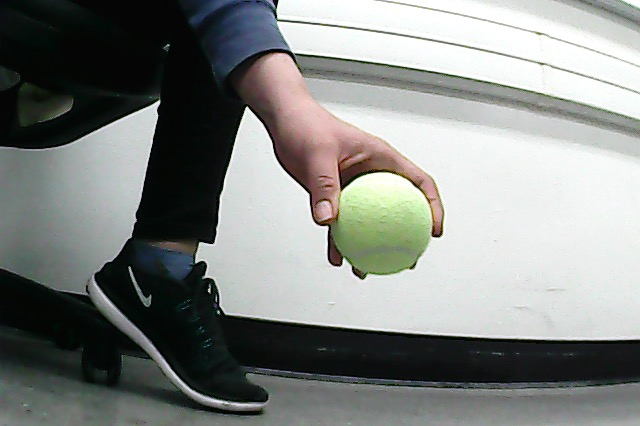ball: (326, 169, 435, 277)
